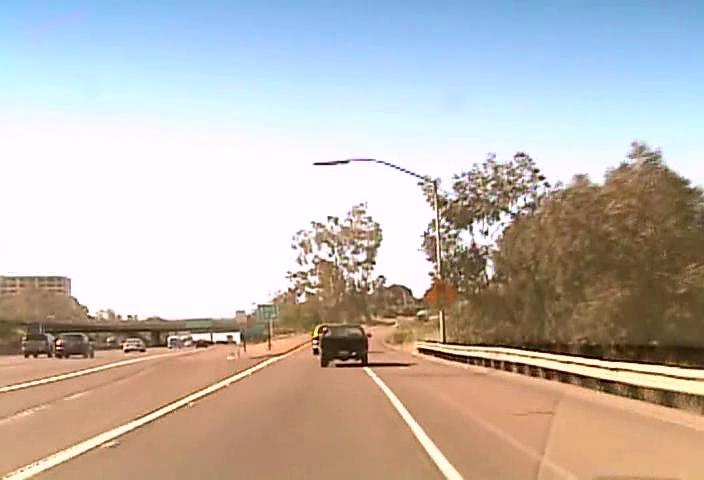signalAhead: (422, 277, 460, 311)
